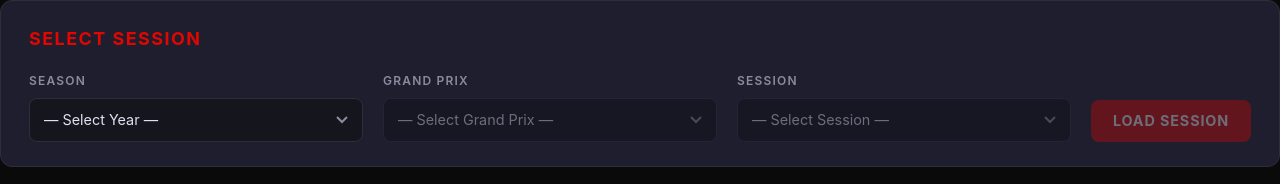
it: selecting a year fetches events and enables GP dropdown
The width and height of the screenshot is (1280, 184).
Select "2024" in the dropdown with test id "year-select" at [196, 120], box [29,98,363,142]
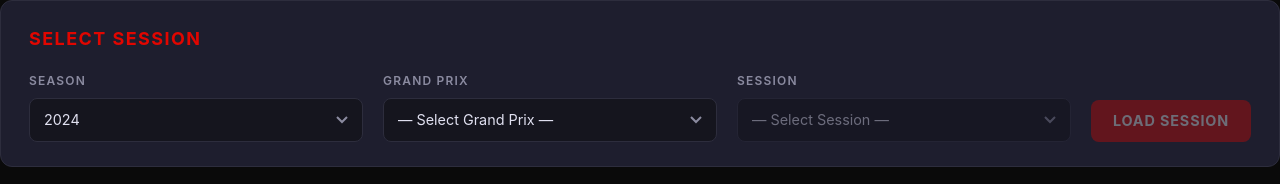
Now the dropdown with test id "gp-select" is enabled, box [383,98,717,142]
